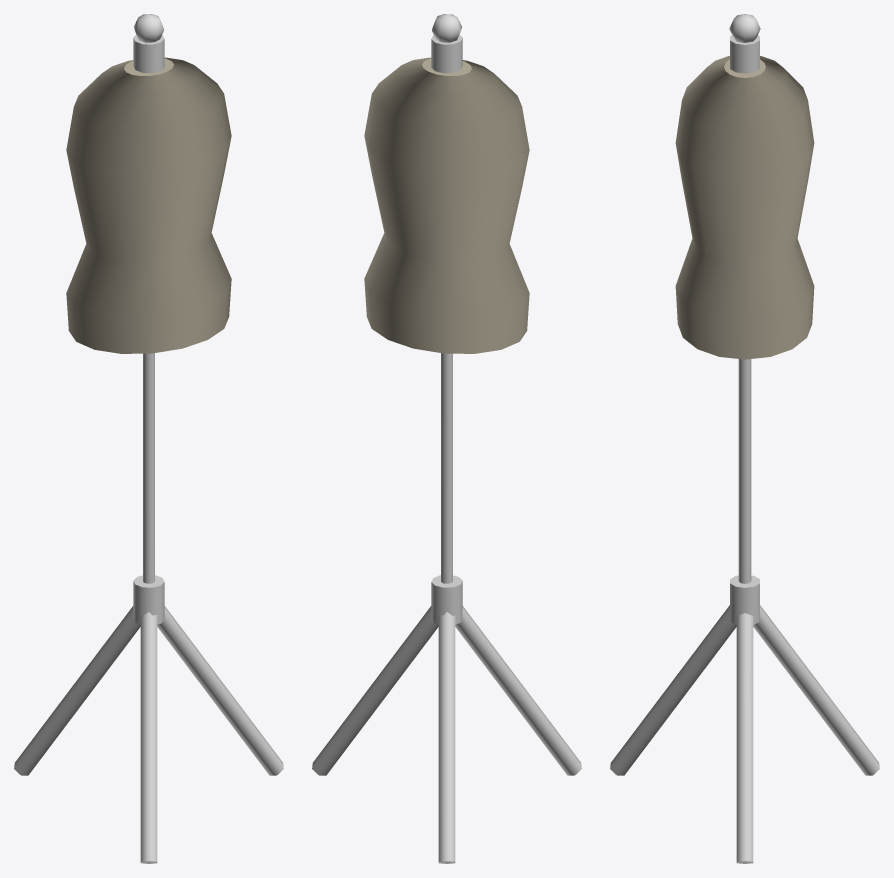
The model's file is dress_form.glb.
3 renders of one model, left to right at view 1: azimuth 30°, elevation 25°; view 2: azimuth 150°, elevation 25°; view 3: azimuth 270°, elevation 25°, orthographic.
Parts seen in each view (by area): view 1: dress_form; view 2: dress_form; view 3: dress_form.
Boxes of the visible parts, <box> form: dress_form: <box>14,14,283,863</box>; dress_form: <box>312,14,581,863</box>; dress_form: <box>610,14,879,863</box>.
Size of the model in its own units: 0.46 by 1.66 by 0.5135.
